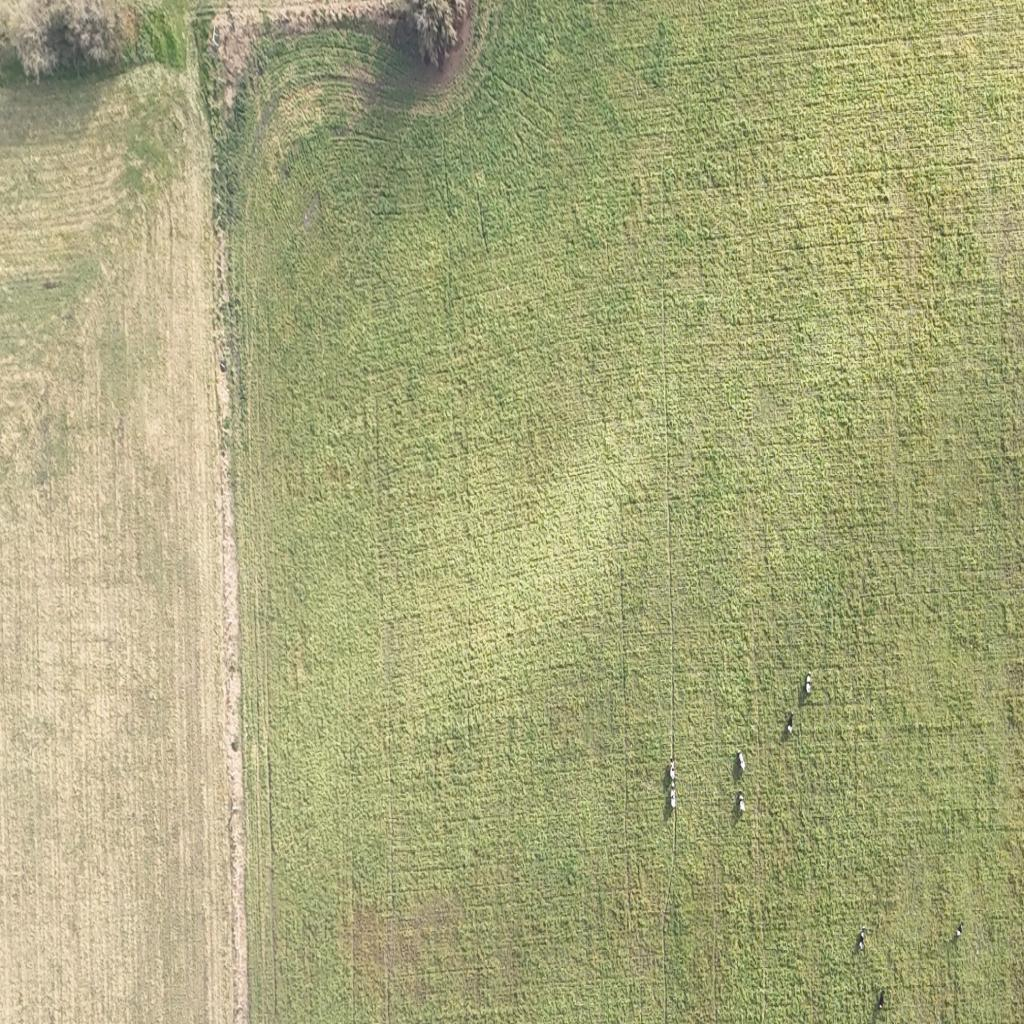cow: (856, 928, 866, 952), (737, 751, 746, 773), (786, 713, 794, 735), (805, 673, 812, 695), (955, 922, 964, 939), (878, 988, 885, 1008), (670, 759, 676, 781), (670, 787, 676, 809), (738, 794, 744, 813)
